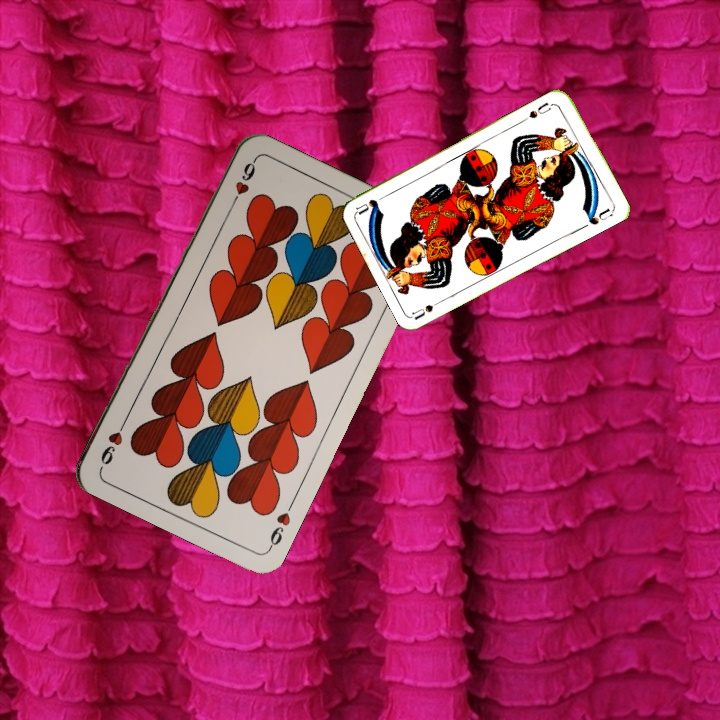H9: (226, 156, 259, 212), (264, 497, 297, 552)
SU: (409, 295, 448, 322), (525, 98, 558, 121)
